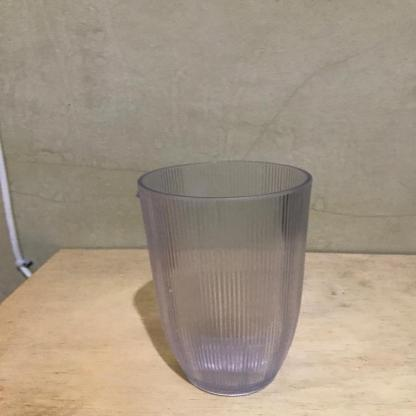glass: (141, 152, 309, 394)
